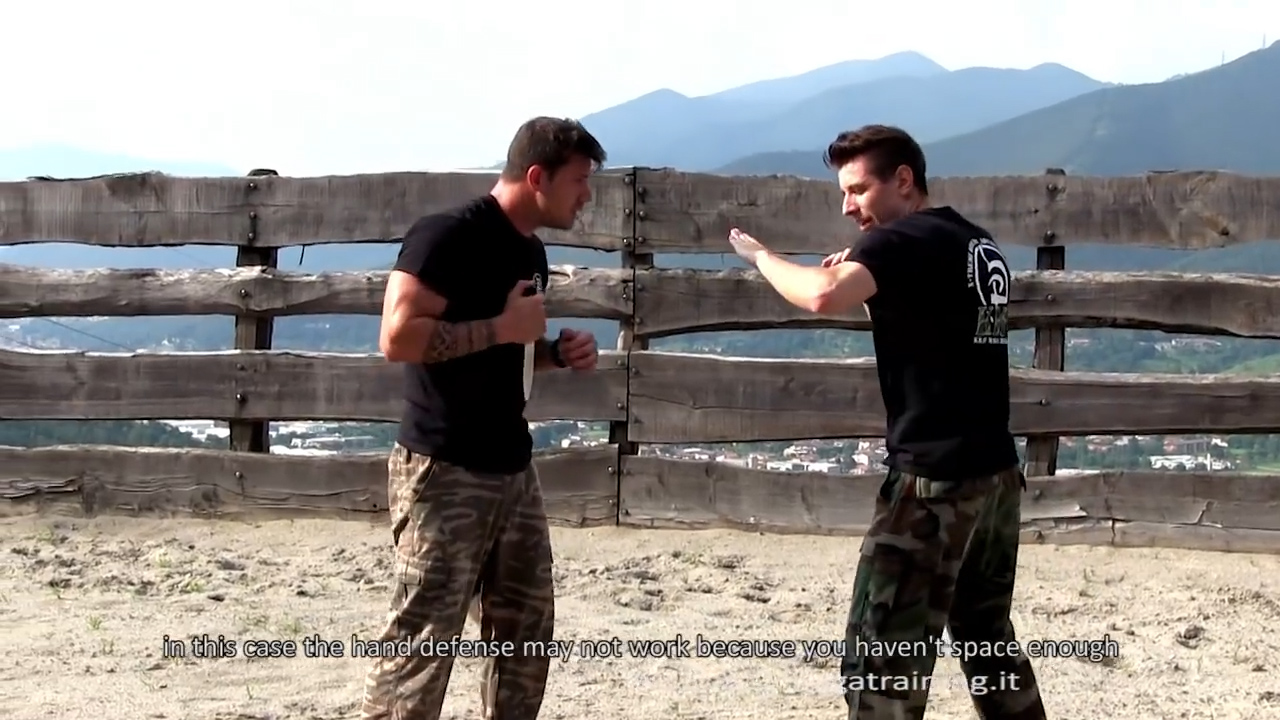knife: (499, 270, 551, 408)
